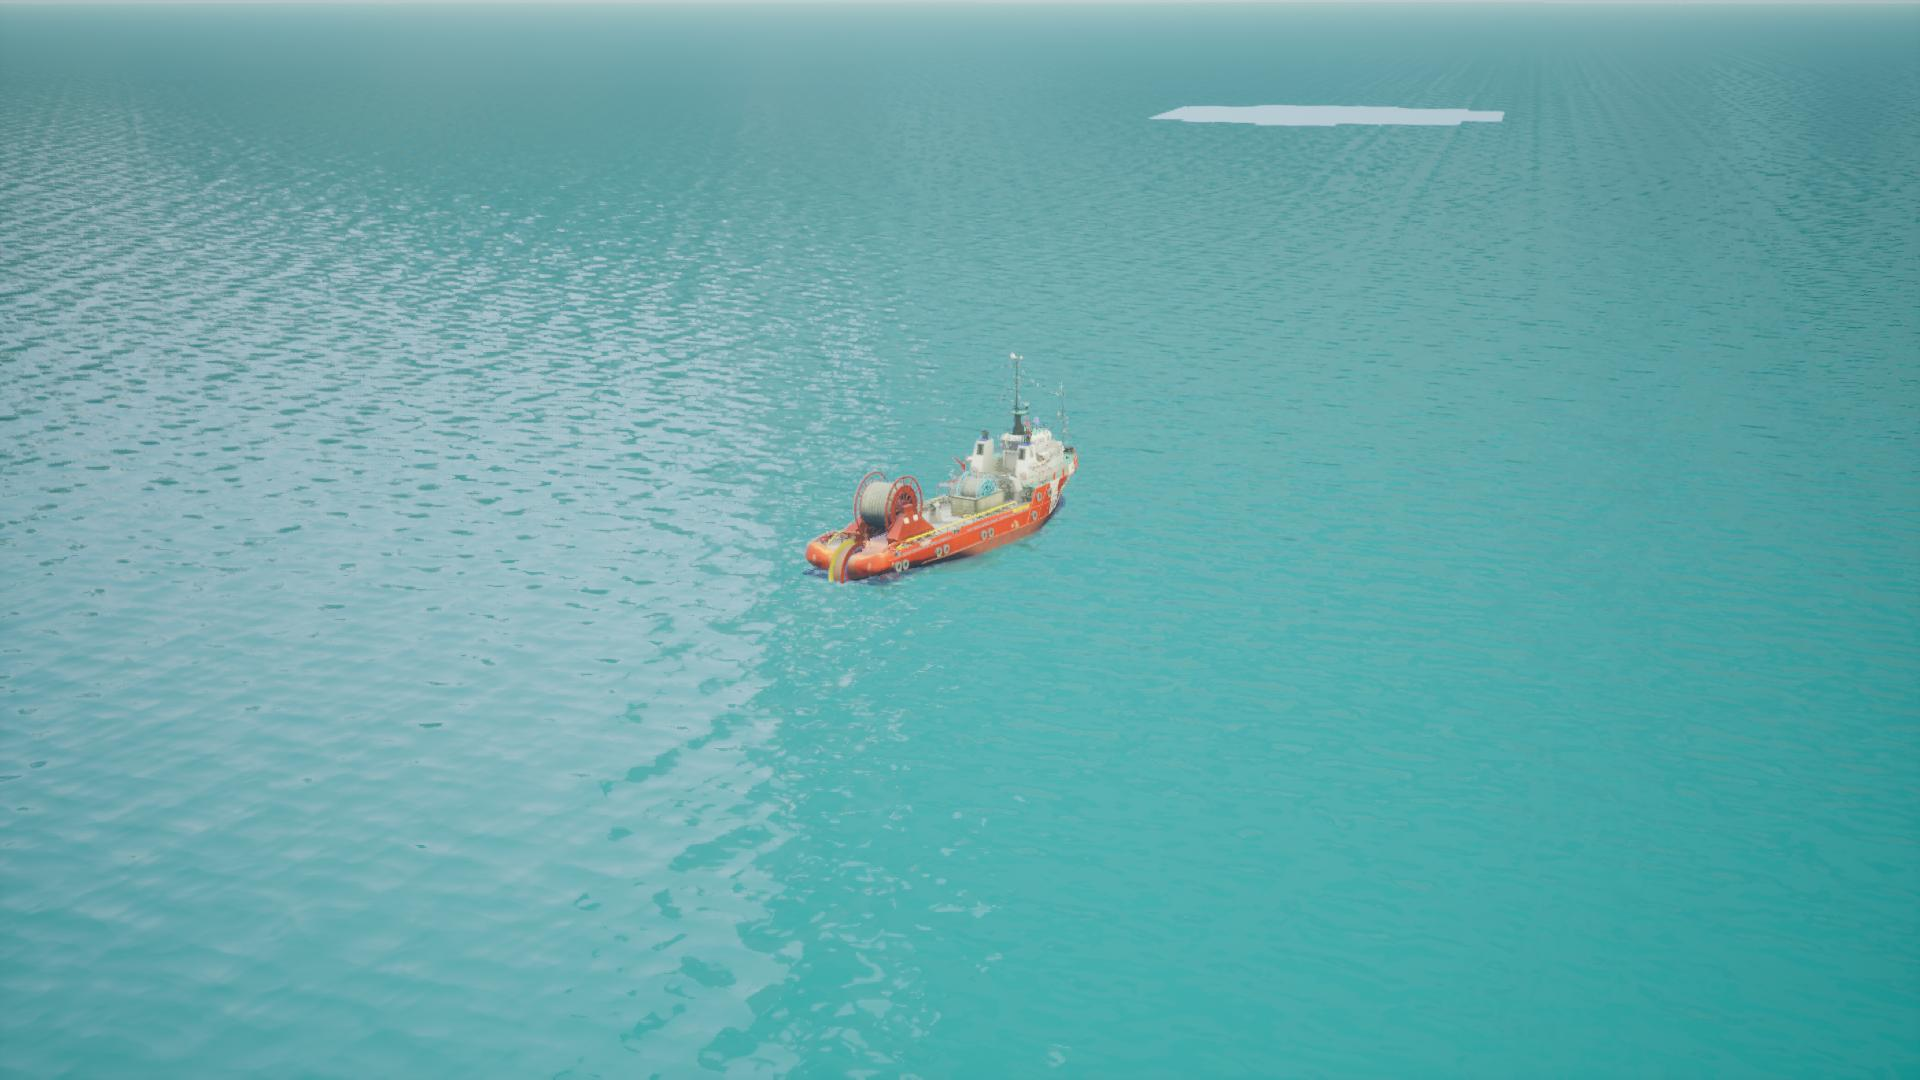Tug Boat: (808, 351, 1076, 588)
